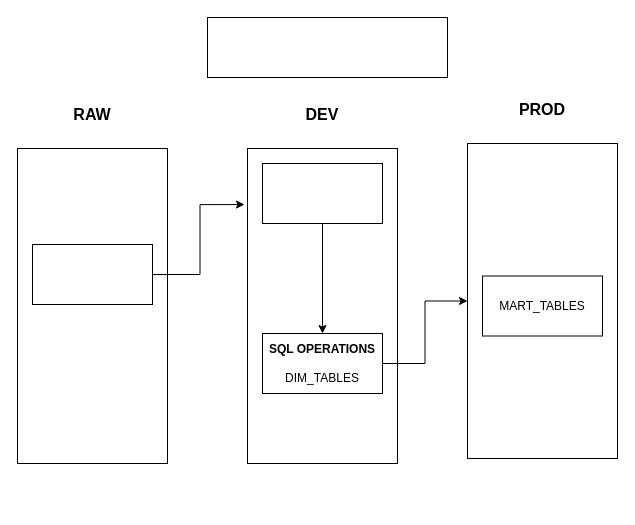
Image size: 635x525. Some labels were removed from this diagram. The shapes that lost their labels are listed below. From the top down, each one's box as (x1, y1, x2, y2) in pixels, then its label:
(206, 16, 448, 78): Architecture Diagram
(262, 162, 382, 224): DE - DUPLICATION SRC_TABLES
(32, 244, 152, 304): RAW_TABLES
